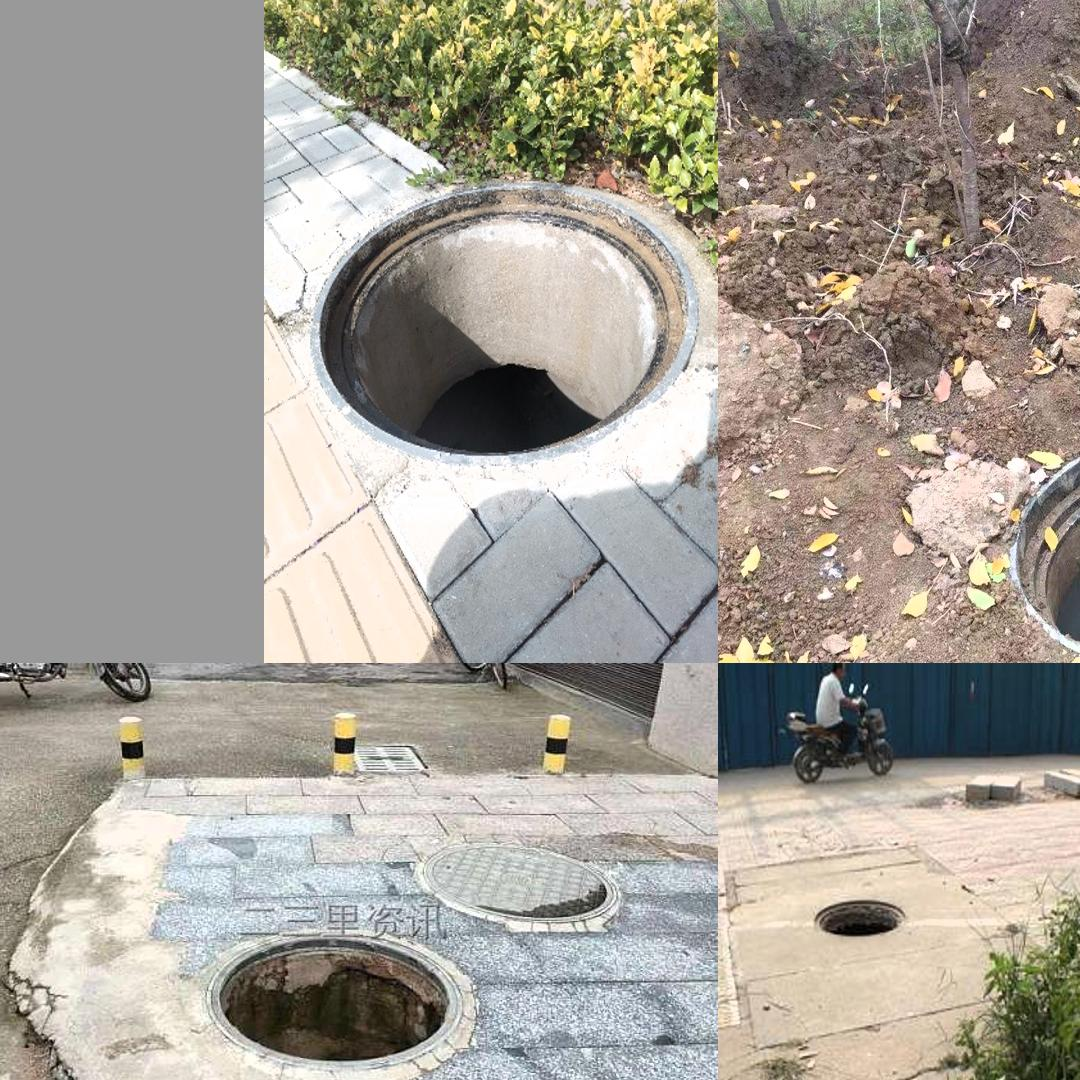lose: (308, 182, 698, 467), (197, 922, 478, 1079), (941, 395, 1080, 661), (806, 886, 916, 949), (853, 1063, 1073, 1080)
